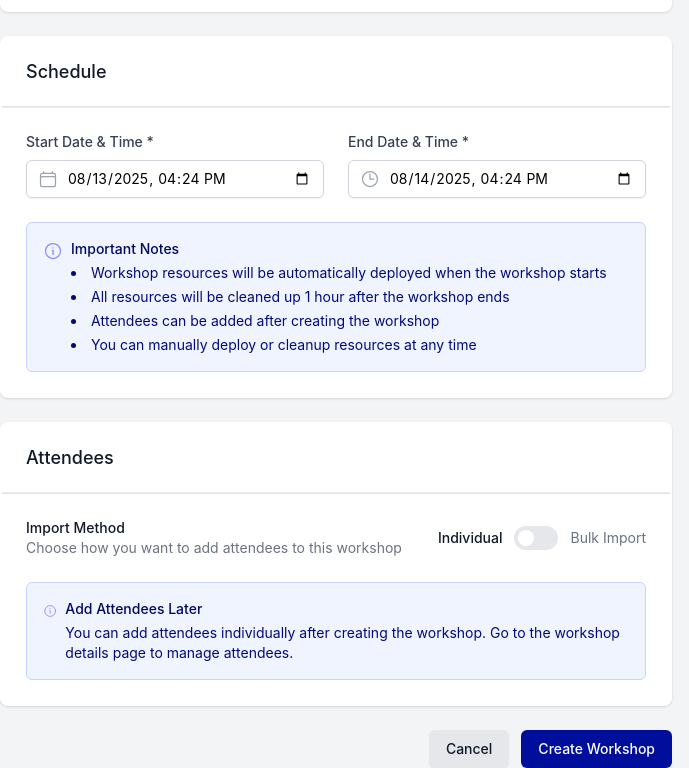
it: CreateWorkshop - Bulk Import › should show validation errors for invalid email format
(page scrolled)
Click the button with class "inline-flex": (536, 538) [514,526,558,550]
(page scrolled)
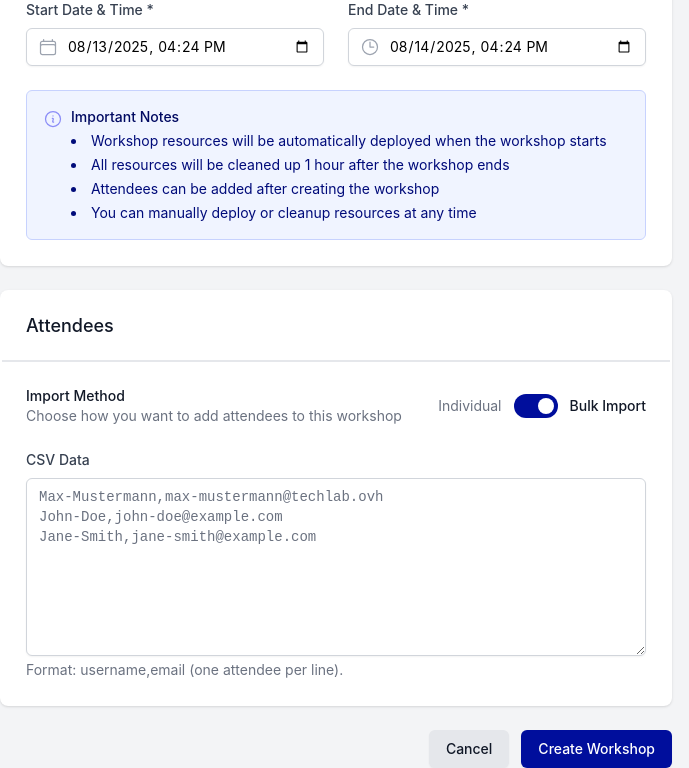
Replace the text in the text box labelled "CSV Data" with "john-doe,not-an-email": (336, 567) [26,478,646,656]
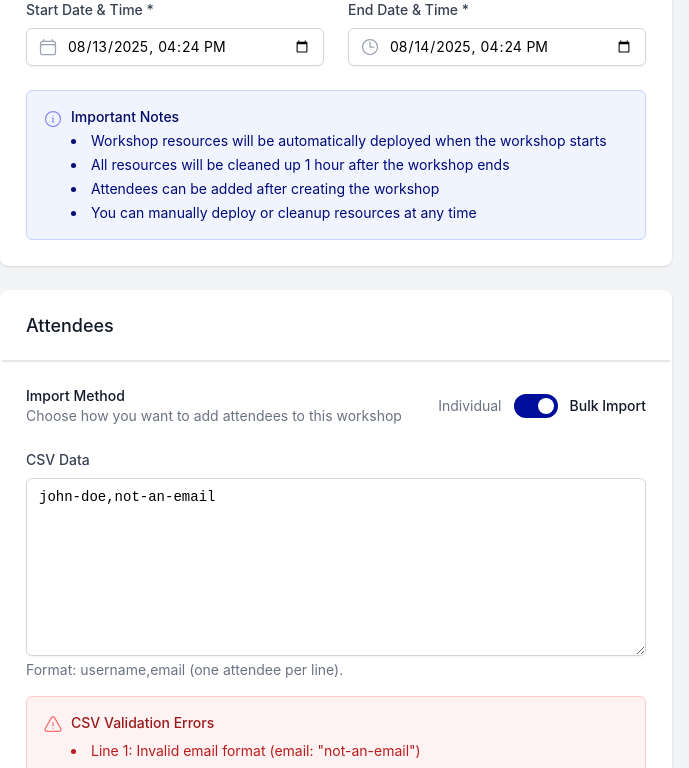
Expected: the heading "CSV Validation Errors" is shown, [71,714,214,731]
Expected: the list item "Line 1: Invalid email format (email: \"not-an-email\")" is shown, [91,742,421,759]
